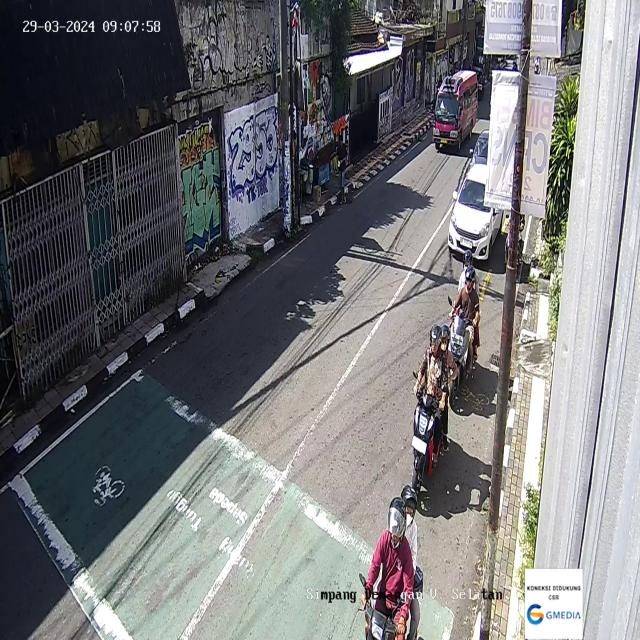bus: (432, 68, 478, 152)
car: (448, 161, 501, 259), (472, 128, 492, 164)
motorcycle: (358, 484, 428, 640), (411, 320, 454, 496), (445, 248, 481, 404), (509, 204, 523, 276)
